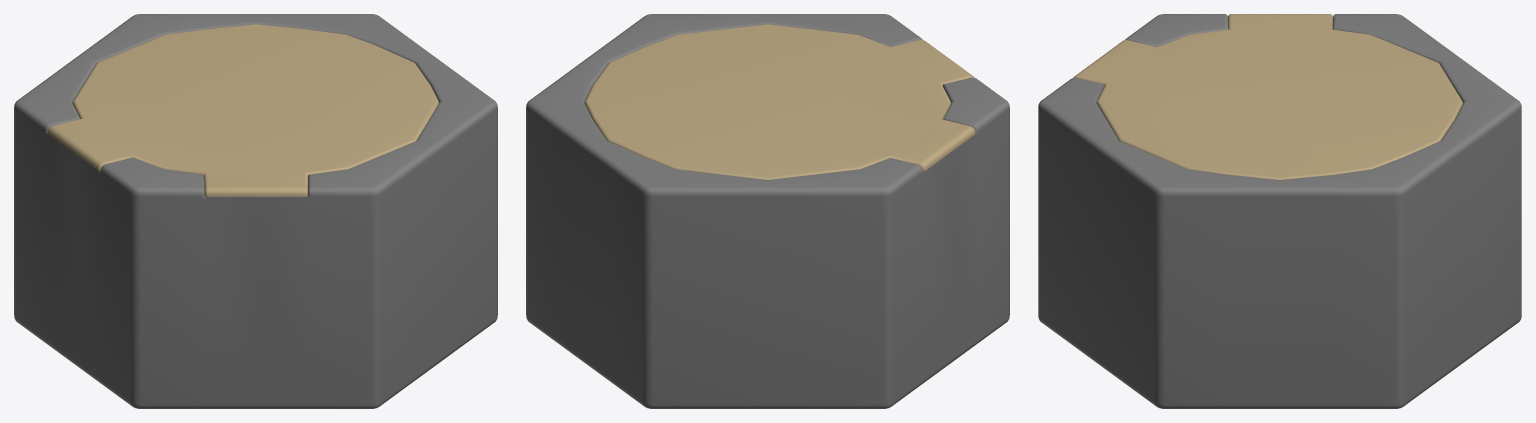
The model's file is Room3.fbx.
3 renders of one model, left to right at view 1: azimuth 30°, elevation 25°; view 2: azimuth 150°, elevation 25°; view 3: azimuth 270°, elevation 25°, orthographic.
Visible parts, largest first — view 1: Cylinder004; view 2: Cylinder004; view 3: Cylinder004.
Boxes of the visible parts, box(x1,y1,x2,y2) form: Cylinder004: box(14, 14, 497, 408); Cylinder004: box(526, 14, 1009, 408); Cylinder004: box(1038, 14, 1521, 408).
Bounding box in the file's own units: 173 × 100 × 199.
